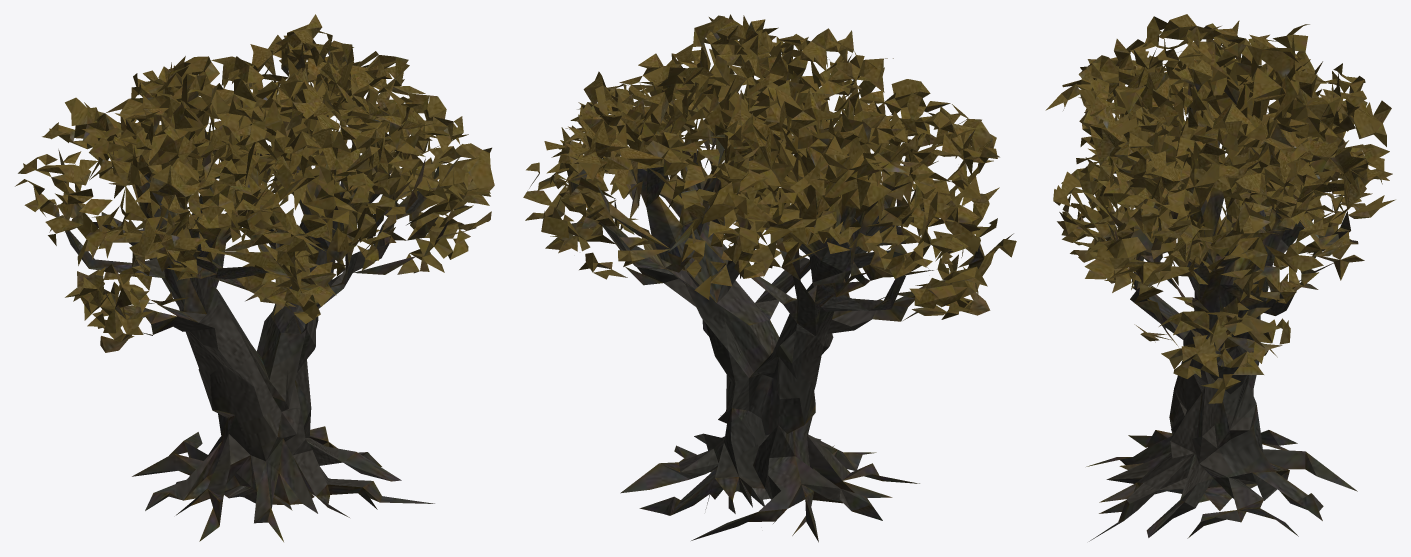
File: oak2.glb
3 renders of one model, left to right at view 1: azimuth 30°, elevation 25°; view 2: azimuth 150°, elevation 25°; view 3: azimuth 270°, elevation 25°, orthographic. The views are drawn at different scales.
Visible parts, largest first — view 1: Mesh_0; view 2: Mesh_0; view 3: Mesh_0.
Boxes of the visible parts, box(x1,y1,x2,y2) form: Mesh_0: box(15, 14, 494, 541); Mesh_0: box(523, 14, 1016, 542); Mesh_0: box(1045, 14, 1395, 541).
Size of the model in its own units: 6.05 by 6 by 4.2.
Materials: 1 (1 with a texture image).
